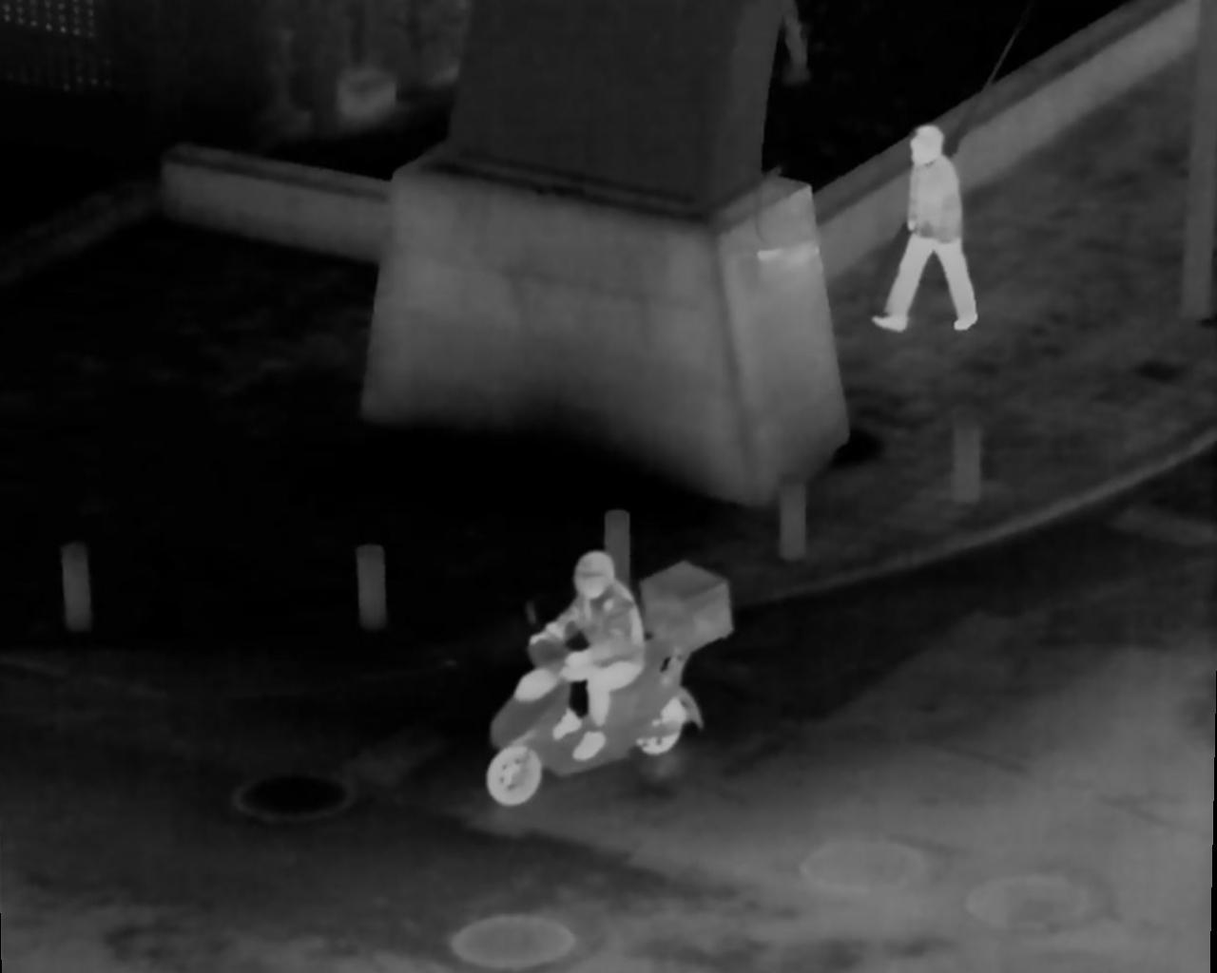person: (883, 118, 983, 342), (563, 549, 656, 759)
